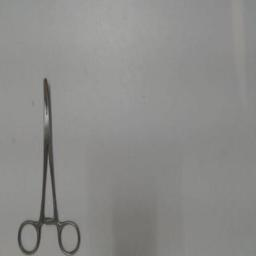Crile Artery Forceps: (16, 74, 84, 256)
